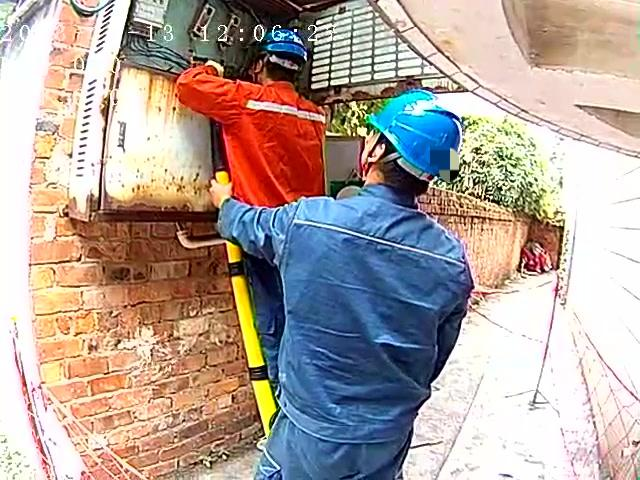halt: (362, 93, 465, 196), (256, 33, 311, 83)
inear: (365, 133, 402, 172)
